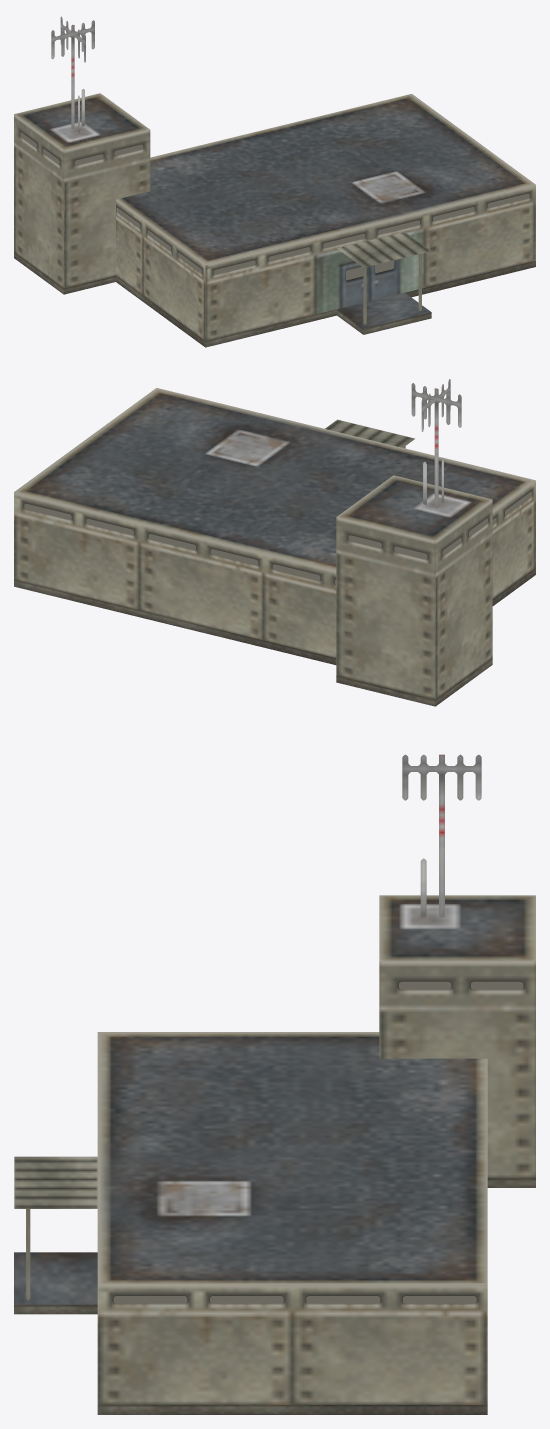
File: genericmilitary.glb
3 renders of one model, top to bottom at view 1: azimuth 30°, elevation 25°; view 2: azimuth 150°, elevation 25°; view 3: azimuth 270°, elevation 25°, orthographic. The views are drawn at different scales.
Parts seen in each view (by area): view 1: Generic Military, LitWin_GenericMilitary, LOS_Antennae; view 2: Generic Military, LitWin_GenericMilitary, LOS_Antennae; view 3: Generic Military, LitWin_GenericMilitary, LOS_Antennae.
Part boxes in pixels (x1,y1,x2,y2): Generic Military: [14, 93, 535, 347]; LitWin_GenericMilitary: [20, 132, 529, 280]; LOS_Antennae: [51, 16, 94, 133]; Generic Military: [14, 388, 535, 706]; LitWin_GenericMilitary: [24, 492, 531, 584]; LOS_Antennae: [411, 379, 461, 507]; Generic Military: [14, 895, 535, 1414]; LitWin_GenericMilitary: [113, 981, 523, 1303]; LOS_Antennae: [402, 754, 481, 917].
Size of the model in its own units: 22.14 by 13.71 by 16.66.
1 material, 1 textured.
